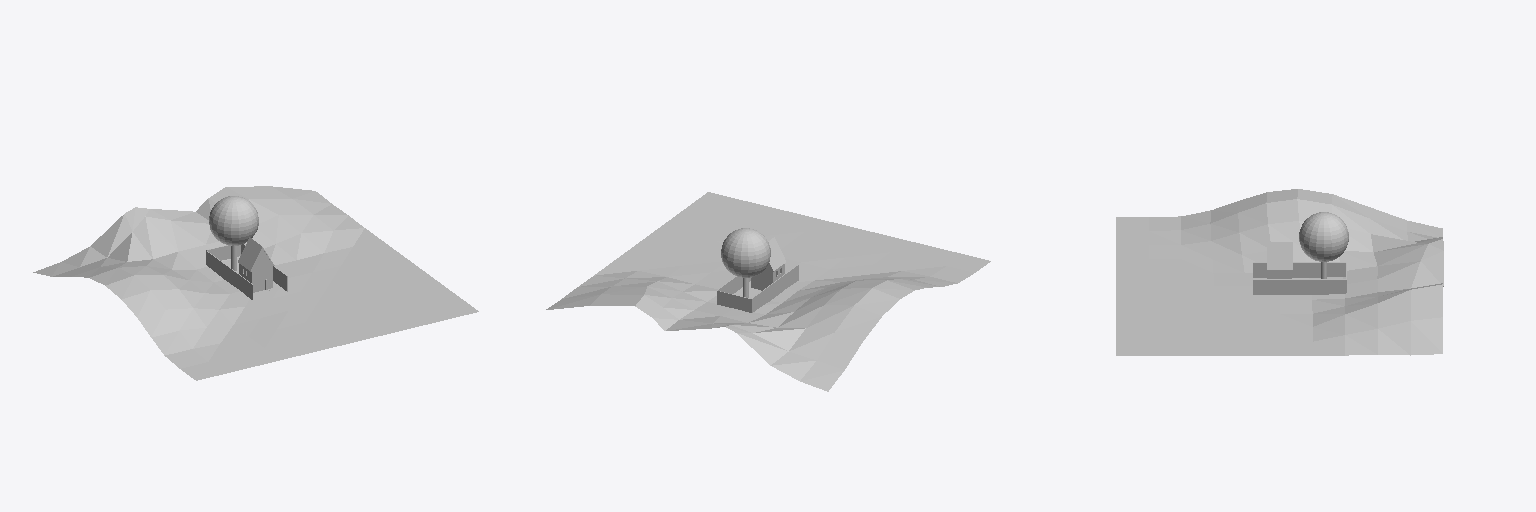
Rendered from house.obj.
3 views of the same model, side by side, from view 1: azimuth 30°, elevation 25°; view 2: azimuth 150°, elevation 25°; view 3: azimuth 270°, elevation 25° (orthographic).
Visible parts, largest first — view 1: polySurface11; view 2: polySurface11; view 3: polySurface11.
Part boxes in pixels (bbox=[...]): polySurface11: bbox=[33, 186, 478, 380]; polySurface11: bbox=[546, 192, 990, 391]; polySurface11: bbox=[1116, 189, 1443, 355].
Size of the model in its own units: 13.04 by 3.67 by 13.05.